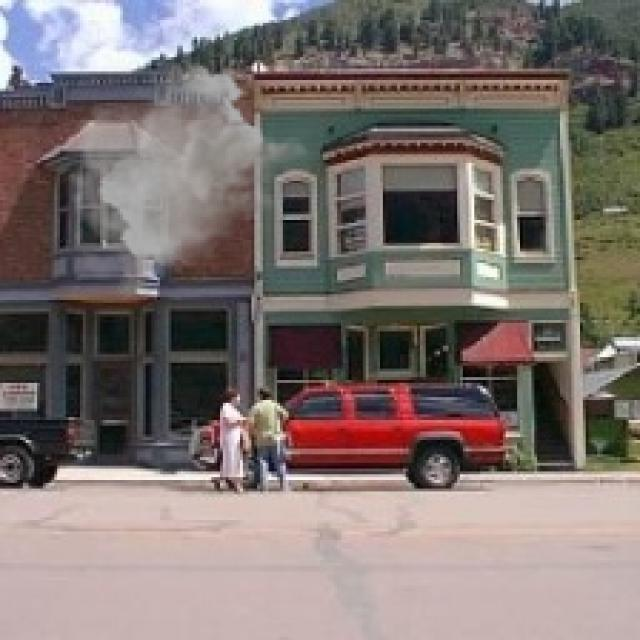Smoke: (66, 60, 312, 300)
